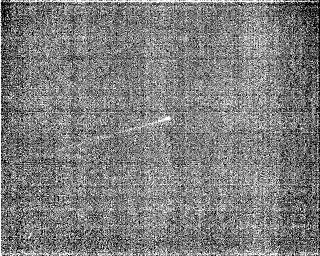AIRPLANE: (77, 114, 173, 144)
